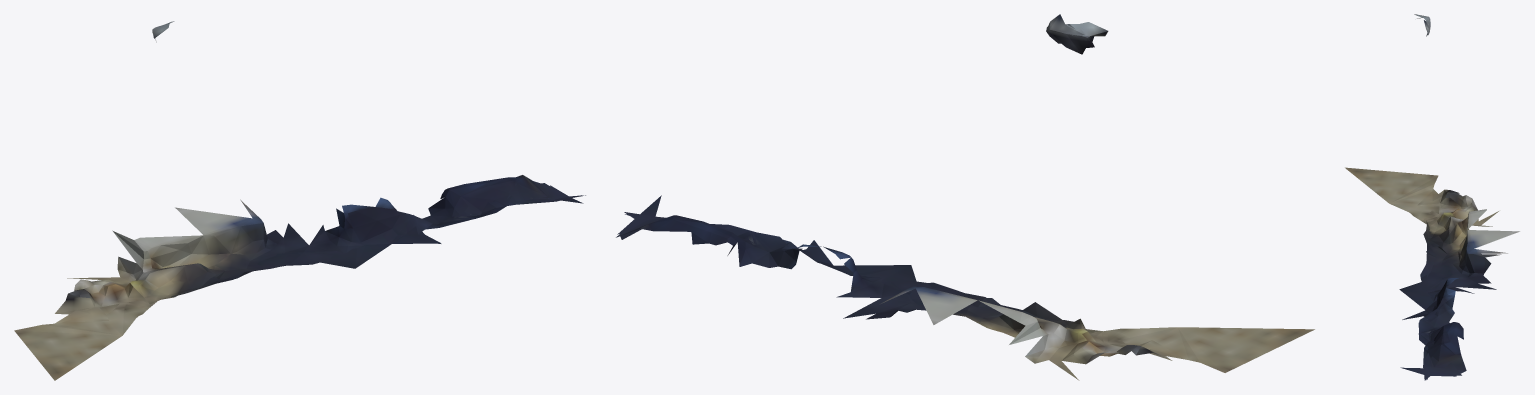
File: hero-reichstag-3894_58200-material-0.glb
3 views of the same model, side by side, from view 1: azimuth 30°, elevation 25°; view 2: azimuth 150°, elevation 25°; view 3: azimuth 270°, elevation 25° (orthographic). The views are drawn at different scales.
Parts seen in each view (by area): view 1: world; view 2: world; view 3: world.
Boxes of the visible parts, x1,y1,x2,y2 form: world: (14, 21, 585, 380); world: (616, 14, 1314, 380); world: (1345, 14, 1519, 380).
Size of the model in its own units: 59.48 by 27.65 by 20.44.
Materials: 1 (1 with a texture image).
